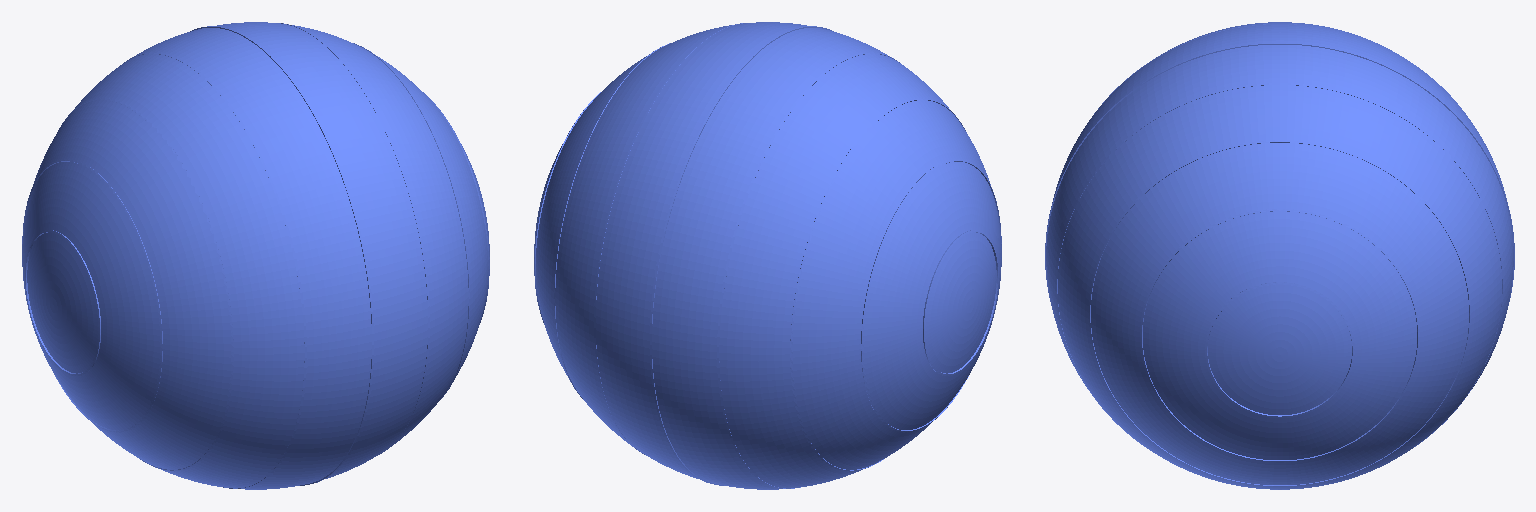
Rendered from yoga_ball_03.obj.
3 renders of one model, left to right at view 1: azimuth 30°, elevation 25°; view 2: azimuth 150°, elevation 25°; view 3: azimuth 270°, elevation 25°, orthographic.
Visible parts, largest first — view 1: mesh12, mesh16, mesh8, mesh20, mesh4, mesh24, mesh0, mesh28, mesh14, mesh10, mesh18, mesh6 (+1 smaller); view 2: mesh12, mesh16, mesh8, mesh20, mesh4, mesh24, mesh0, mesh28, mesh14, mesh10, mesh18, mesh6 (+1 smaller); view 3: mesh28, mesh32, mesh24, mesh20, mesh36, mesh16, mesh30, mesh26, mesh22, mesh34, mesh19, mesh27.
Part boxes in pixels (x1,y1,x2,y2): mesh12: (75,54,304,488); mesh16: (136,28,371,489); mesh8: (34,100,230,469); mesh20: (217,22,427,478); mesh4: (22,162,159,429); mesh24: (293,25,468,443); mesh0: (27,232,97,373); mesh28: (379,57,487,375); mesh14: (130,52,306,488); mesh10: (68,98,233,471); mesh18: (207,26,373,482); mesh6: (27,159,162,432); mesh12: (719,54,948,488); mesh16: (652,28,887,489); mesh8: (793,100,989,469); mesh20: (596,22,806,478); mesh4: (864,162,1001,429); mesh24: (555,25,730,443); mesh0: (926,232,996,373); mesh28: (536,57,644,375); mesh14: (717,52,893,488); mesh10: (790,98,955,471); mesh18: (650,26,816,482); mesh6: (861,159,996,432); mesh28: (1091,143,1468,484); mesh32: (1143,211,1416,459); mesh24: (1058,85,1501,489); mesh20: (1046,45,1513,388); mesh36: (1208,285,1351,414); mesh16: (1053,24,1506,198); mesh30: (1140,209,1419,462); mesh26: (1089,140,1470,486); mesh22: (1057,83,1502,419); mesh34: (1205,282,1354,417); mesh19: (1045,44,1514,305); mesh27: (1090,142,1469,485).
Size of the model in its own units: 0.75 by 0.7536 by 0.7537.